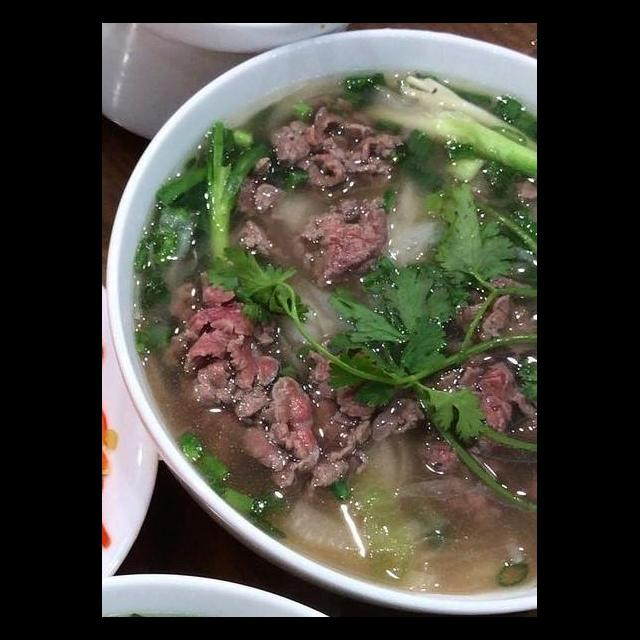banh pho: (256, 267, 368, 391)
pho bo: (118, 67, 537, 615)
thit bo: (156, 270, 378, 491), (408, 332, 538, 480), (260, 93, 416, 195), (437, 266, 538, 370), (288, 186, 392, 274)
